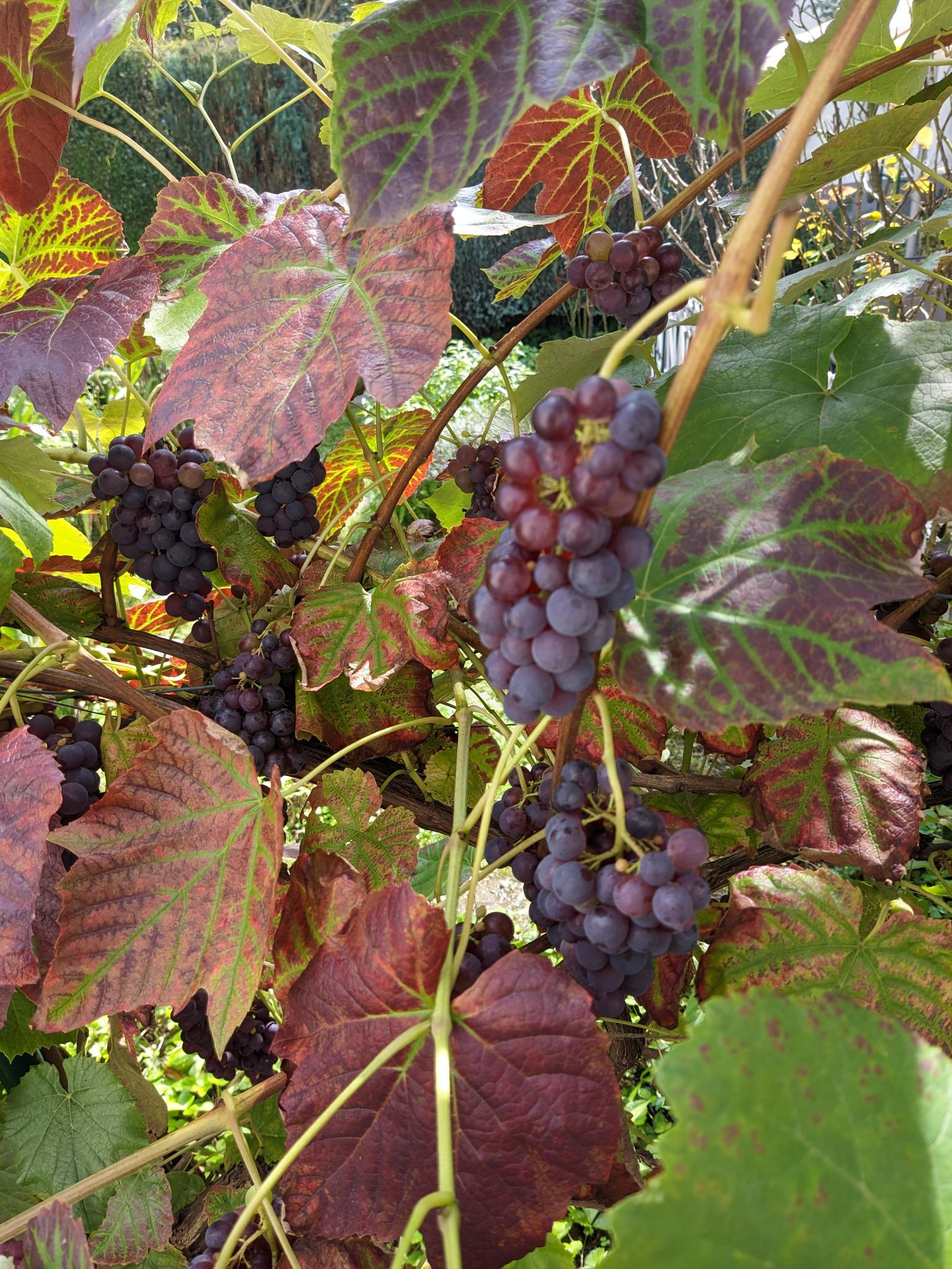Grape Ripe: (472, 374, 674, 725), (484, 756, 713, 1017), (87, 425, 221, 640), (201, 618, 303, 774), (570, 228, 695, 341), (171, 990, 286, 1080), (251, 435, 329, 549), (32, 706, 108, 811), (191, 1197, 287, 1269), (452, 909, 510, 985), (448, 441, 504, 517)
